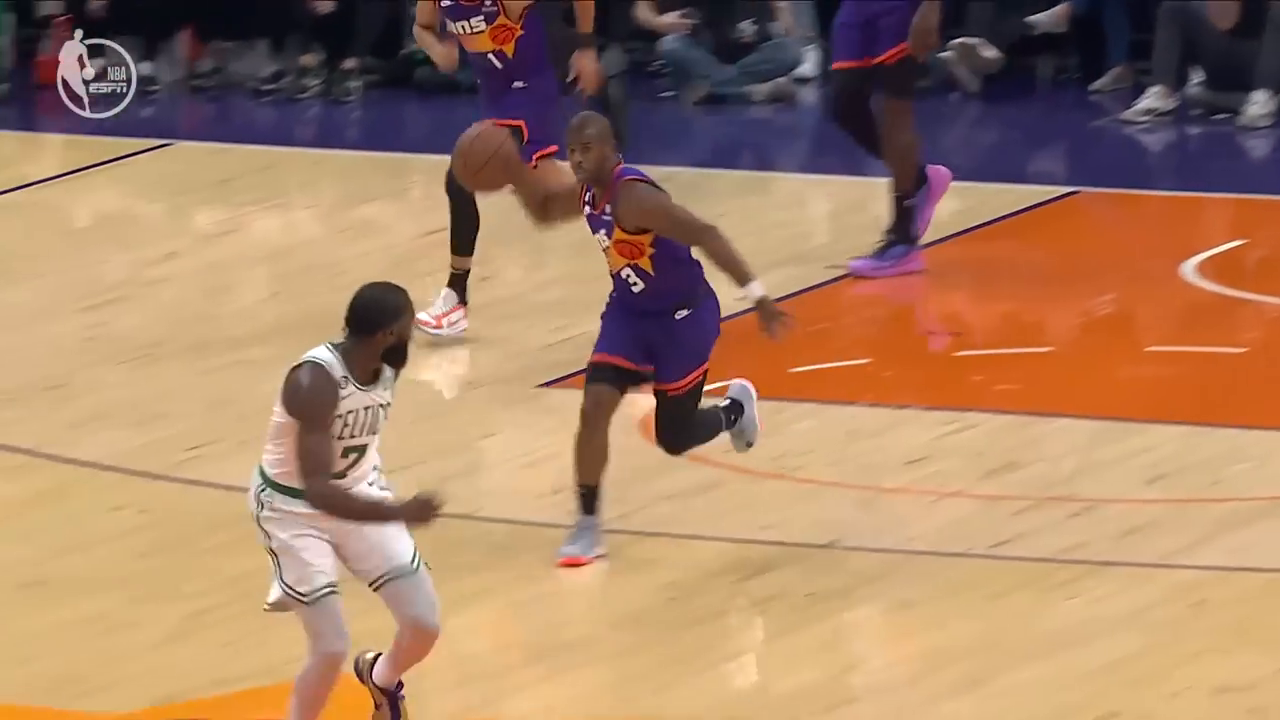ball: (440, 113, 527, 198)
